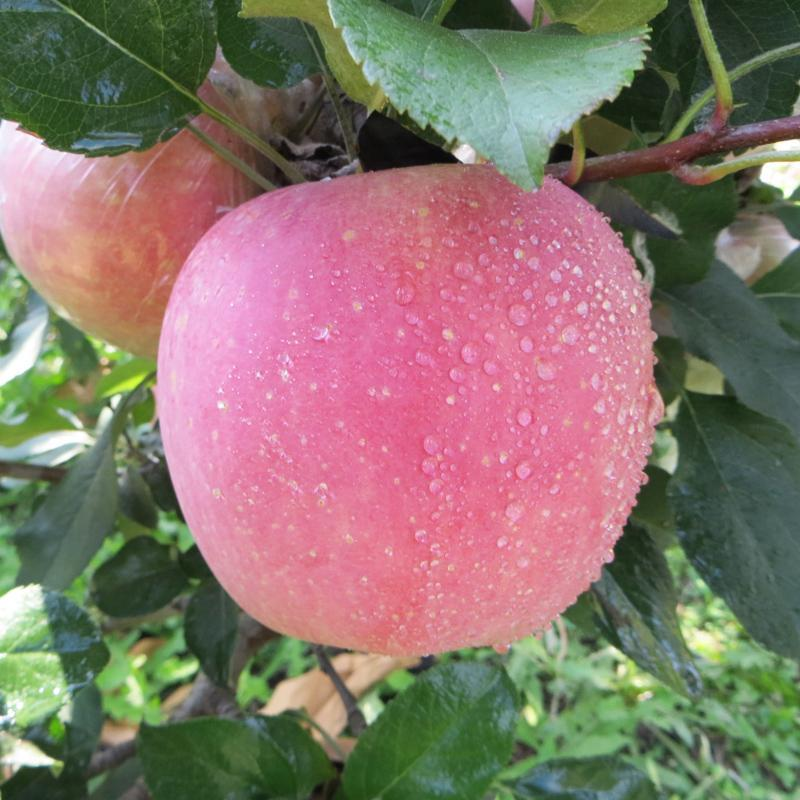apple: (152, 162, 654, 657), (0, 96, 346, 373)
